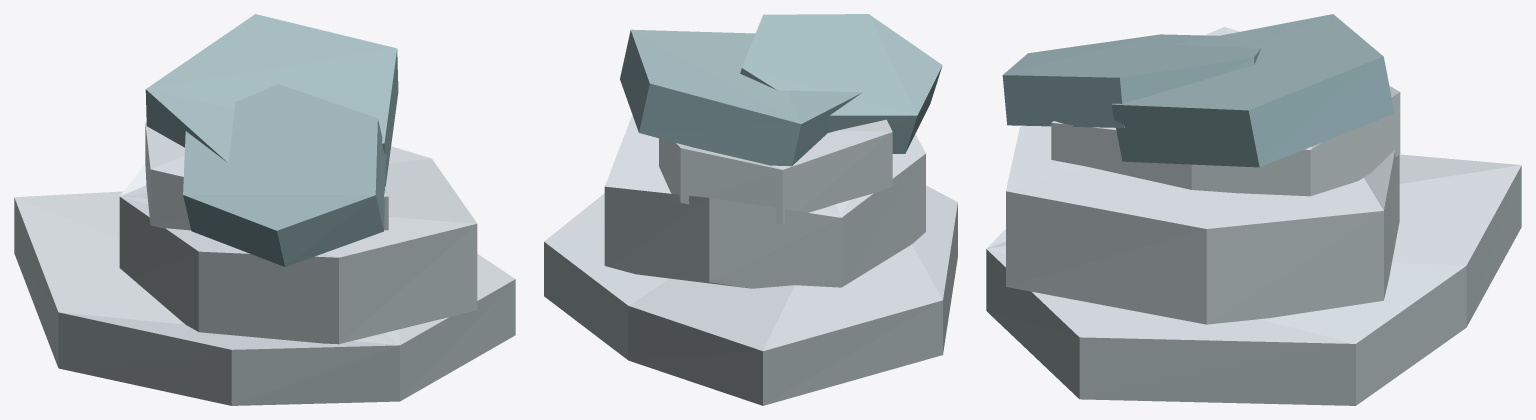
The model's file is rock.floe__crusted__autumn.glb.
The picture shows the model from 3 angles, left to right: view 1: azimuth 30°, elevation 25°; view 2: azimuth 150°, elevation 25°; view 3: azimuth 270°, elevation 25°; orthographic projection. The views are drawn at different scales.
Parts seen in each view (by area): view 1: rock.floe; view 2: rock.floe; view 3: rock.floe.
Boxes of the visible parts, bbox=[...] form: rock.floe: bbox=[14, 14, 515, 405]; rock.floe: bbox=[544, 14, 957, 405]; rock.floe: bbox=[986, 14, 1521, 405].
Bounding box in the file's own units: 1.72 × 1.13 × 1.94.
